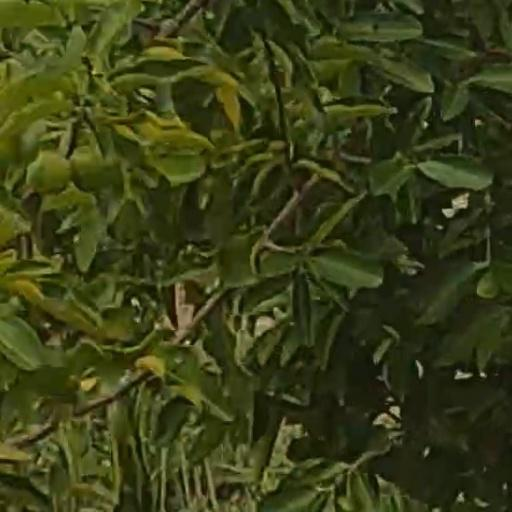acerola: (76, 150, 113, 194), (31, 155, 69, 194)
